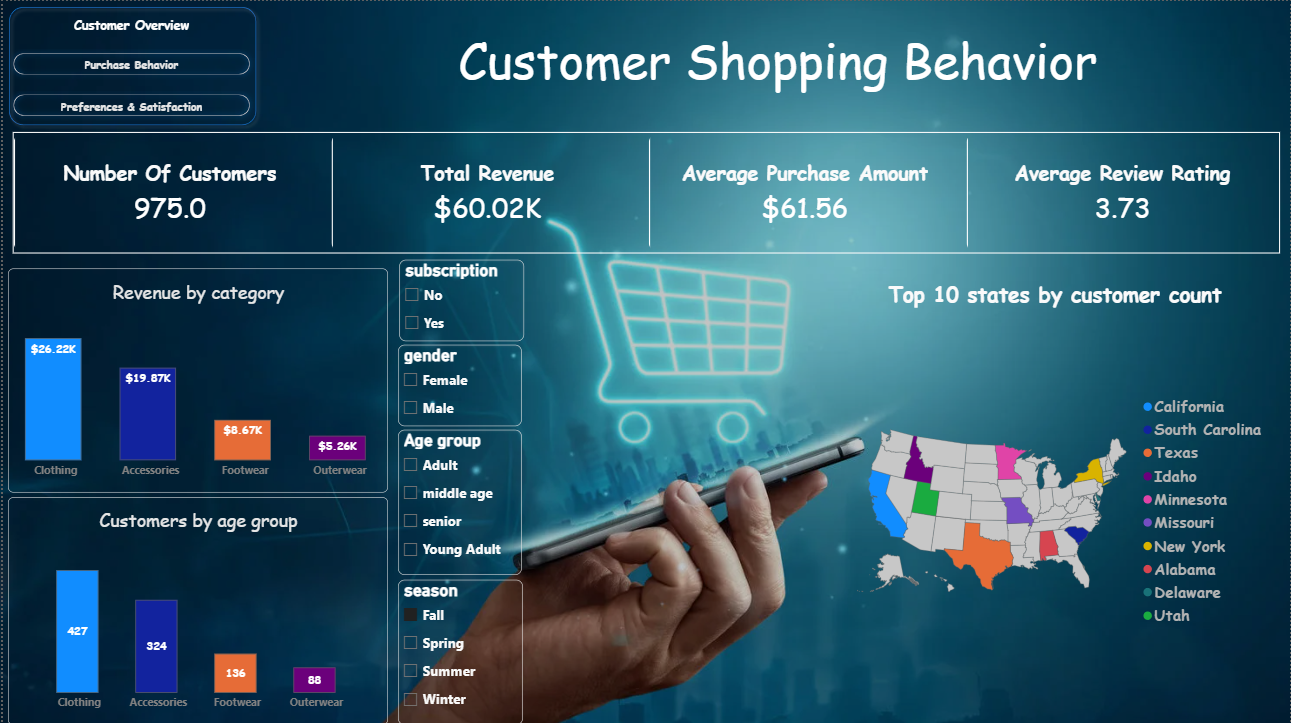

This screenshot's page, from the dashboard's own definition file:
{"tool":"powerbi","page":{"name":"Customer Overview","canvas":[1920,1080],"ordinal":0},"visuals":[{"type":"cardVisual","fields":{"Data":["customer_behavior.Number Of Customers","customer_shopping_behavior.Total Revenue","customer_behavior.Average Purchase Amount","customer_behavior.Average Review Rating"]},"box":[0,181,1920.1,210.9],"z":0},{"type":"columnChart","title":"Customers by age group","fields":{"Category":["customer_shopping_behavior.category"],"Series":["customer_shopping_behavior.category"],"Y":["Count(customer_shopping_behavior.customer_id)"]},"box":[7.5,740.8,567.2,339.6],"z":1000},{"type":"shapeMap","title":"Top 10 states by customer count","fields":{"Category":["customer_behavior.location"],"Series":["customer_behavior.location"],"Value":["customer_behavior.Number Of Customers"]},"box":[1237.1,401.2,666.1,662.4],"z":3000},{"type":"slicer","fields":{"Values":["customer_behavior.gender"]},"box":[589.6,513.1,184.7,121.3],"z":4000},{"type":"slicer","fields":{"Values":["customer_behavior.age_group"]},"box":[589.6,640,184.7,216.4],"z":5000},{"type":"slicer","fields":{"Values":["customer_behavior.subscription_status"]},"box":[591.5,386.2,186.6,121.3],"z":6000},{"type":"slicer","fields":{"Values":["customer_behavior.season"]},"box":[589.6,863.6,186.6,216.4],"z":7000},{"type":"textbox","box":[394.4,0,1525.9,174.1],"z":8000},{"type":"pageNavigator","box":[7.4,7.4,369.5,173.5],"z":9000},{"type":"columnChart","title":"Revenue by category","fields":{"Category":["customer_shopping_behavior.category"],"Series":["customer_shopping_behavior.category"],"Y":["customer_shopping_behavior.Total Revenue"]},"box":[7.5,399.3,567.2,334],"z":10000},{"type":"shape","box":[0,0,387,194.4],"z":10001}]}

Visuals, with their boxes in screenshot pixels (x1, y1, x2, y2), scaled from the page's 1920x1080 canvas onto the 1291x723 screenshot:
cardVisual - customer_behavior.Number Of Customers x customer_shopping_behavior.Total Revenue: box=[0, 121, 1290, 262]
"Customers by age group" columnChart: box=[5, 496, 386, 722]
"Top 10 states by customer count" shapeMap: box=[832, 269, 1280, 712]
slicer - customer_behavior.gender: box=[396, 343, 521, 425]
slicer - customer_behavior.age_group: box=[396, 428, 521, 573]
slicer - customer_behavior.subscription_status: box=[398, 259, 523, 340]
slicer - customer_behavior.season: box=[396, 578, 522, 722]
textbox: box=[265, 0, 1290, 117]
pageNavigator: box=[5, 5, 253, 121]
"Revenue by category" columnChart: box=[5, 267, 386, 491]
shape: box=[0, 0, 260, 130]
